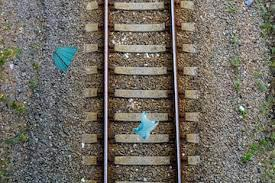Color_steel: (50, 46, 78, 78)
Plastic: (133, 111, 161, 143)
